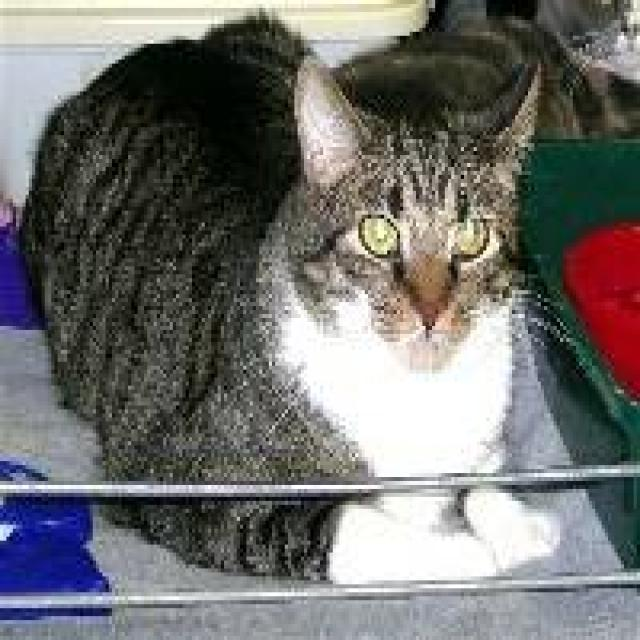cat: (16, 8, 573, 584)
